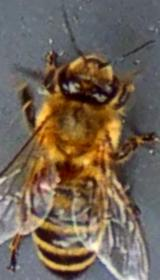varroa_mite: (28, 162, 61, 192)
